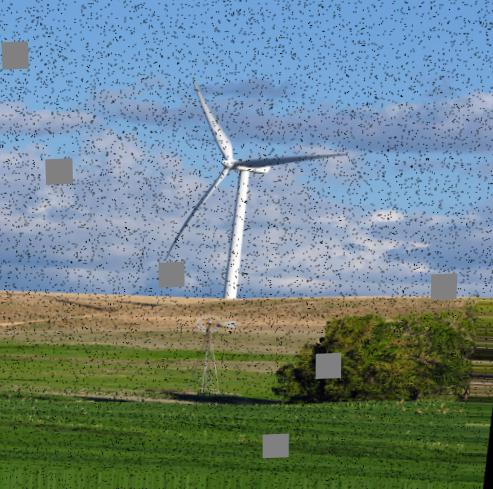wind turbine: (162, 78, 346, 299)
